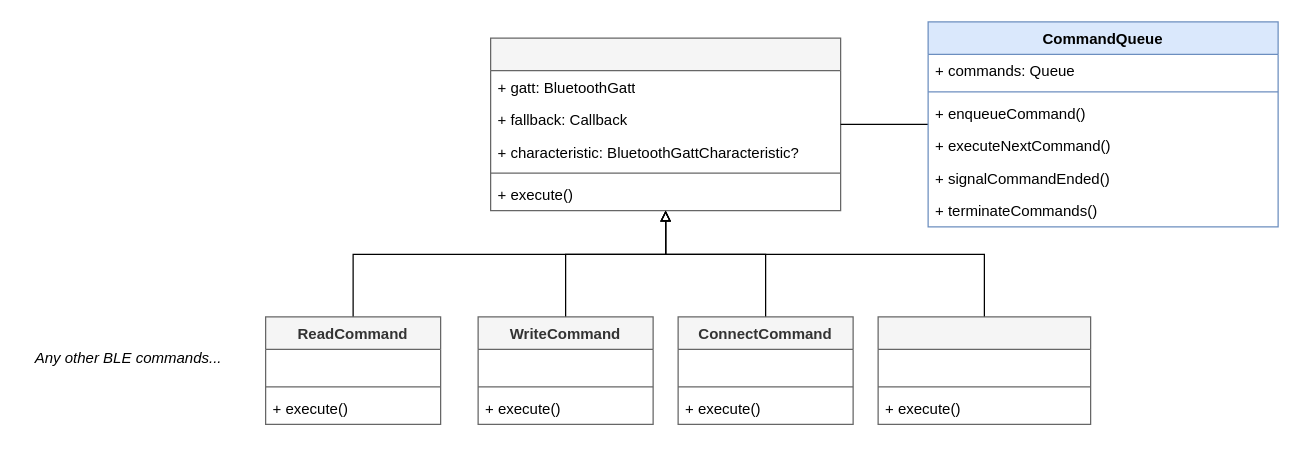
This 1300x450 diagram has some shape labels left out. Each missing label, with the box of its shape:
BaseCommand: (489, 37, 841, 211)
SetNotificationCommand: (877, 316, 1091, 424)
